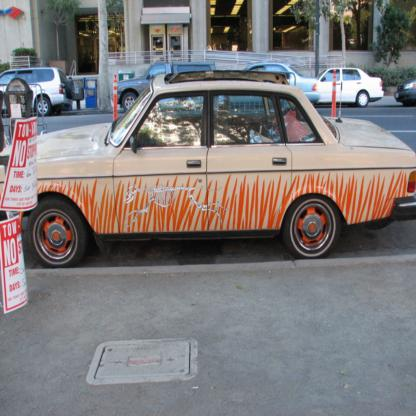Car: (0, 65, 415, 260), (218, 61, 320, 109), (314, 64, 385, 109), (393, 76, 416, 108)
